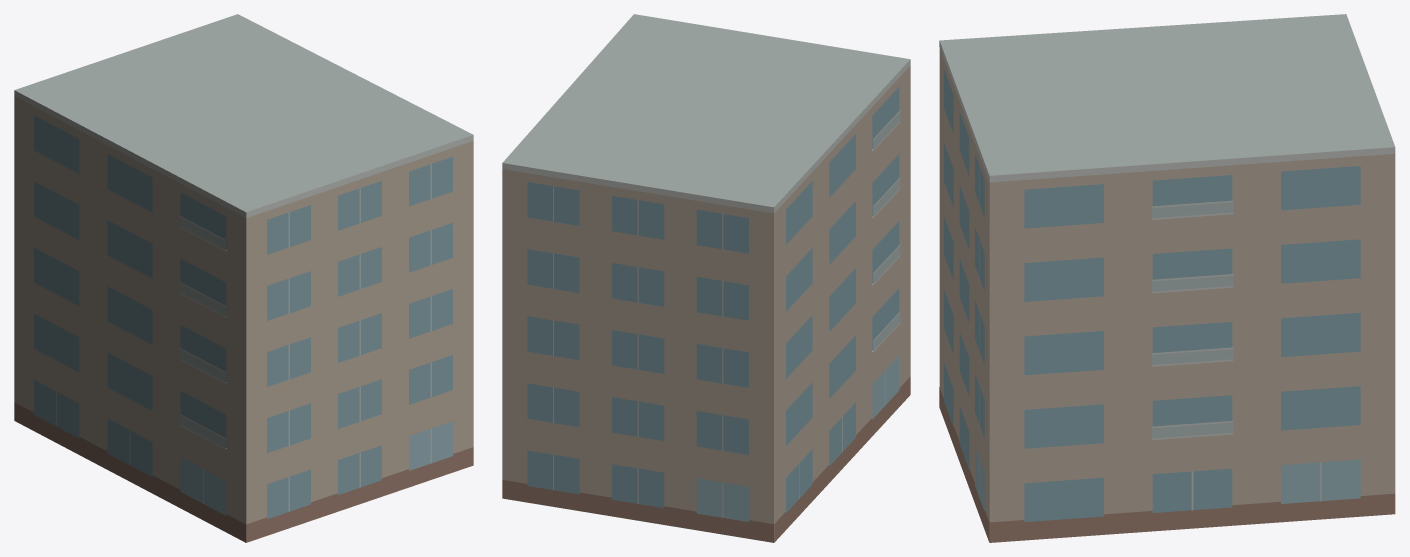
The model's file is survey-upis-32749110.glb.
3 renders of one model, left to right at view 1: azimuth 30°, elevation 25°; view 2: azimuth 150°, elevation 25°; view 3: azimuth 270°, elevation 25°, orthographic. The views are drawn at different scales.
Parts seen in each view (by area): view 1: survey-upis-32749110.tmp; view 2: survey-upis-32749110.tmp; view 3: survey-upis-32749110.tmp.
Boxes of the visible parts, x1,y1,x2,y2 form: survey-upis-32749110.tmp: [14, 14, 473, 542]; survey-upis-32749110.tmp: [502, 14, 910, 542]; survey-upis-32749110.tmp: [939, 14, 1395, 542].
Size of the model in its own units: 12.87 by 13.6 by 15.32.
